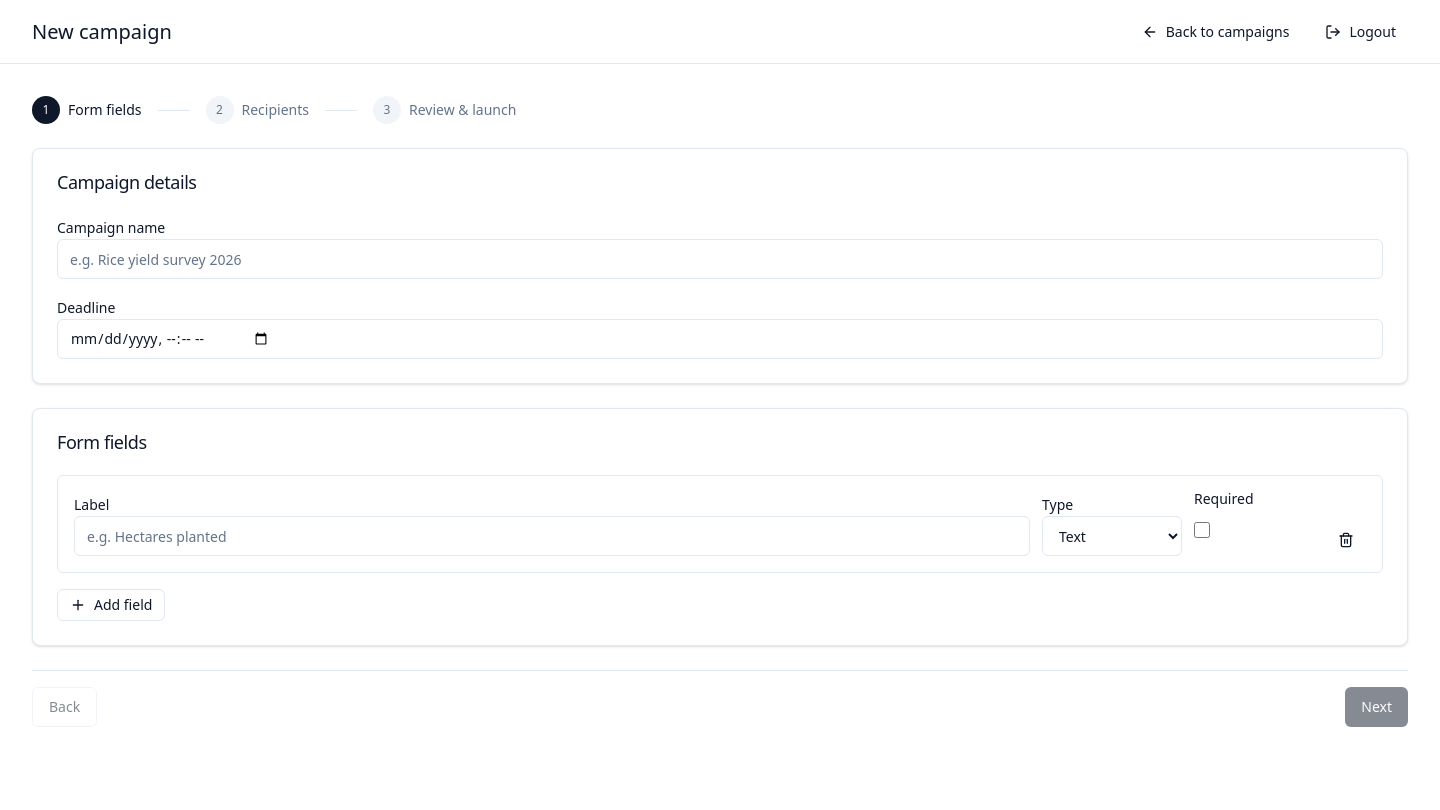
Test: NewCampaignPage › Step 1 — Form fields › Next button is enabled after name and at least one field label are filled
Type "My Campaign" into the field labelled "Campaign name".
click(720, 259); type("My Campaign")  # box [57, 239, 1383, 279]
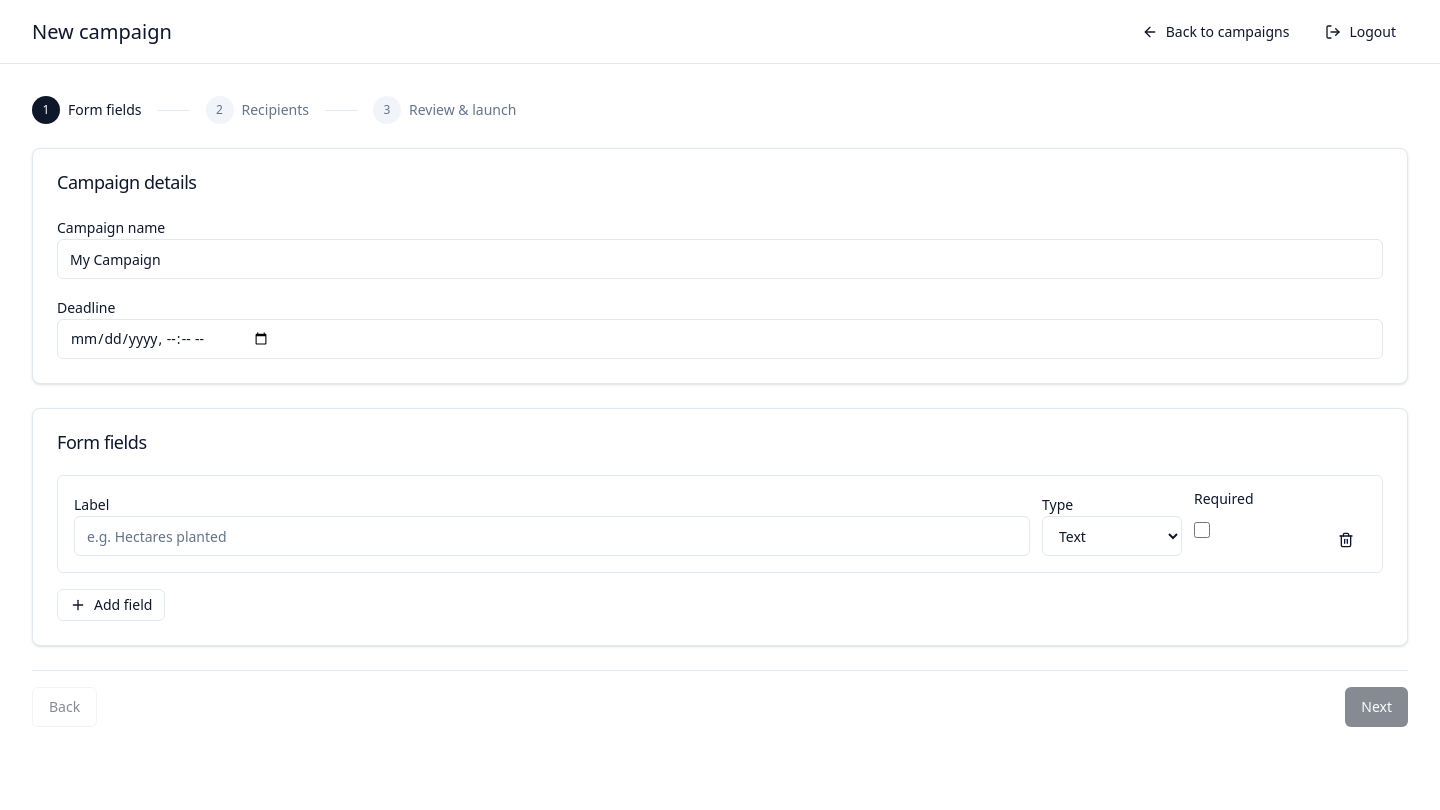
Type "Plot size" into the field with placeholder "e.g. Hectares planted".
click(552, 536); type("Plot size")  # box [74, 516, 1030, 556]
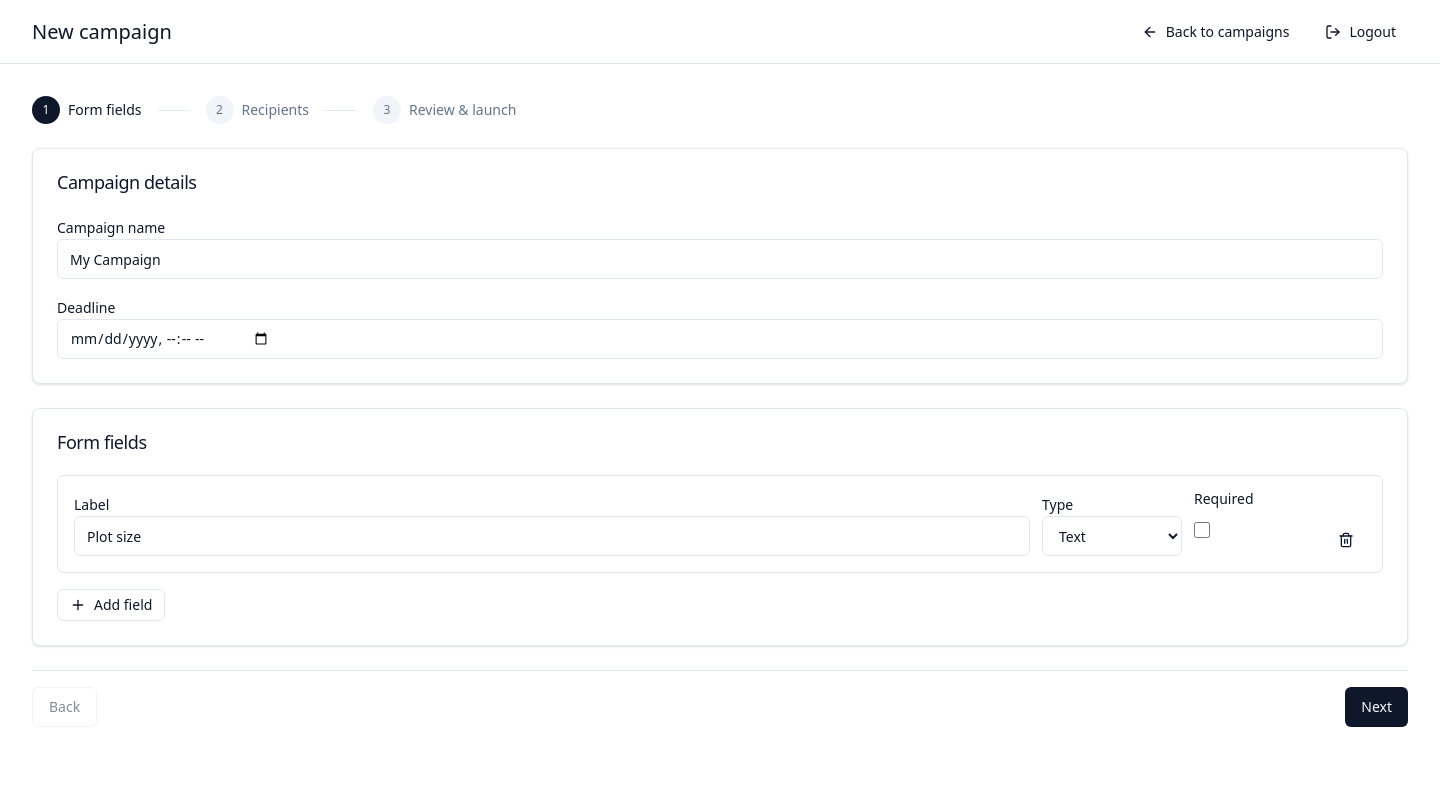
Expected: the button "Next" is enabled, [1345, 687, 1408, 727]
